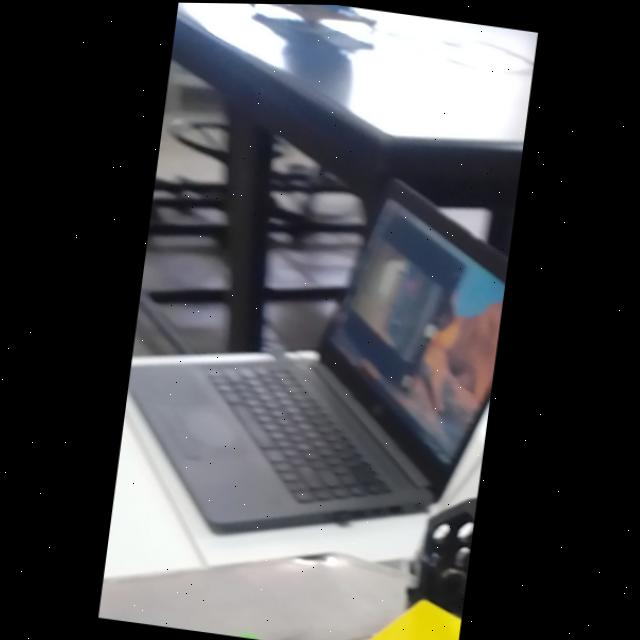greenBox: (136, 601, 334, 640)
yellowBox: (331, 574, 465, 640)
